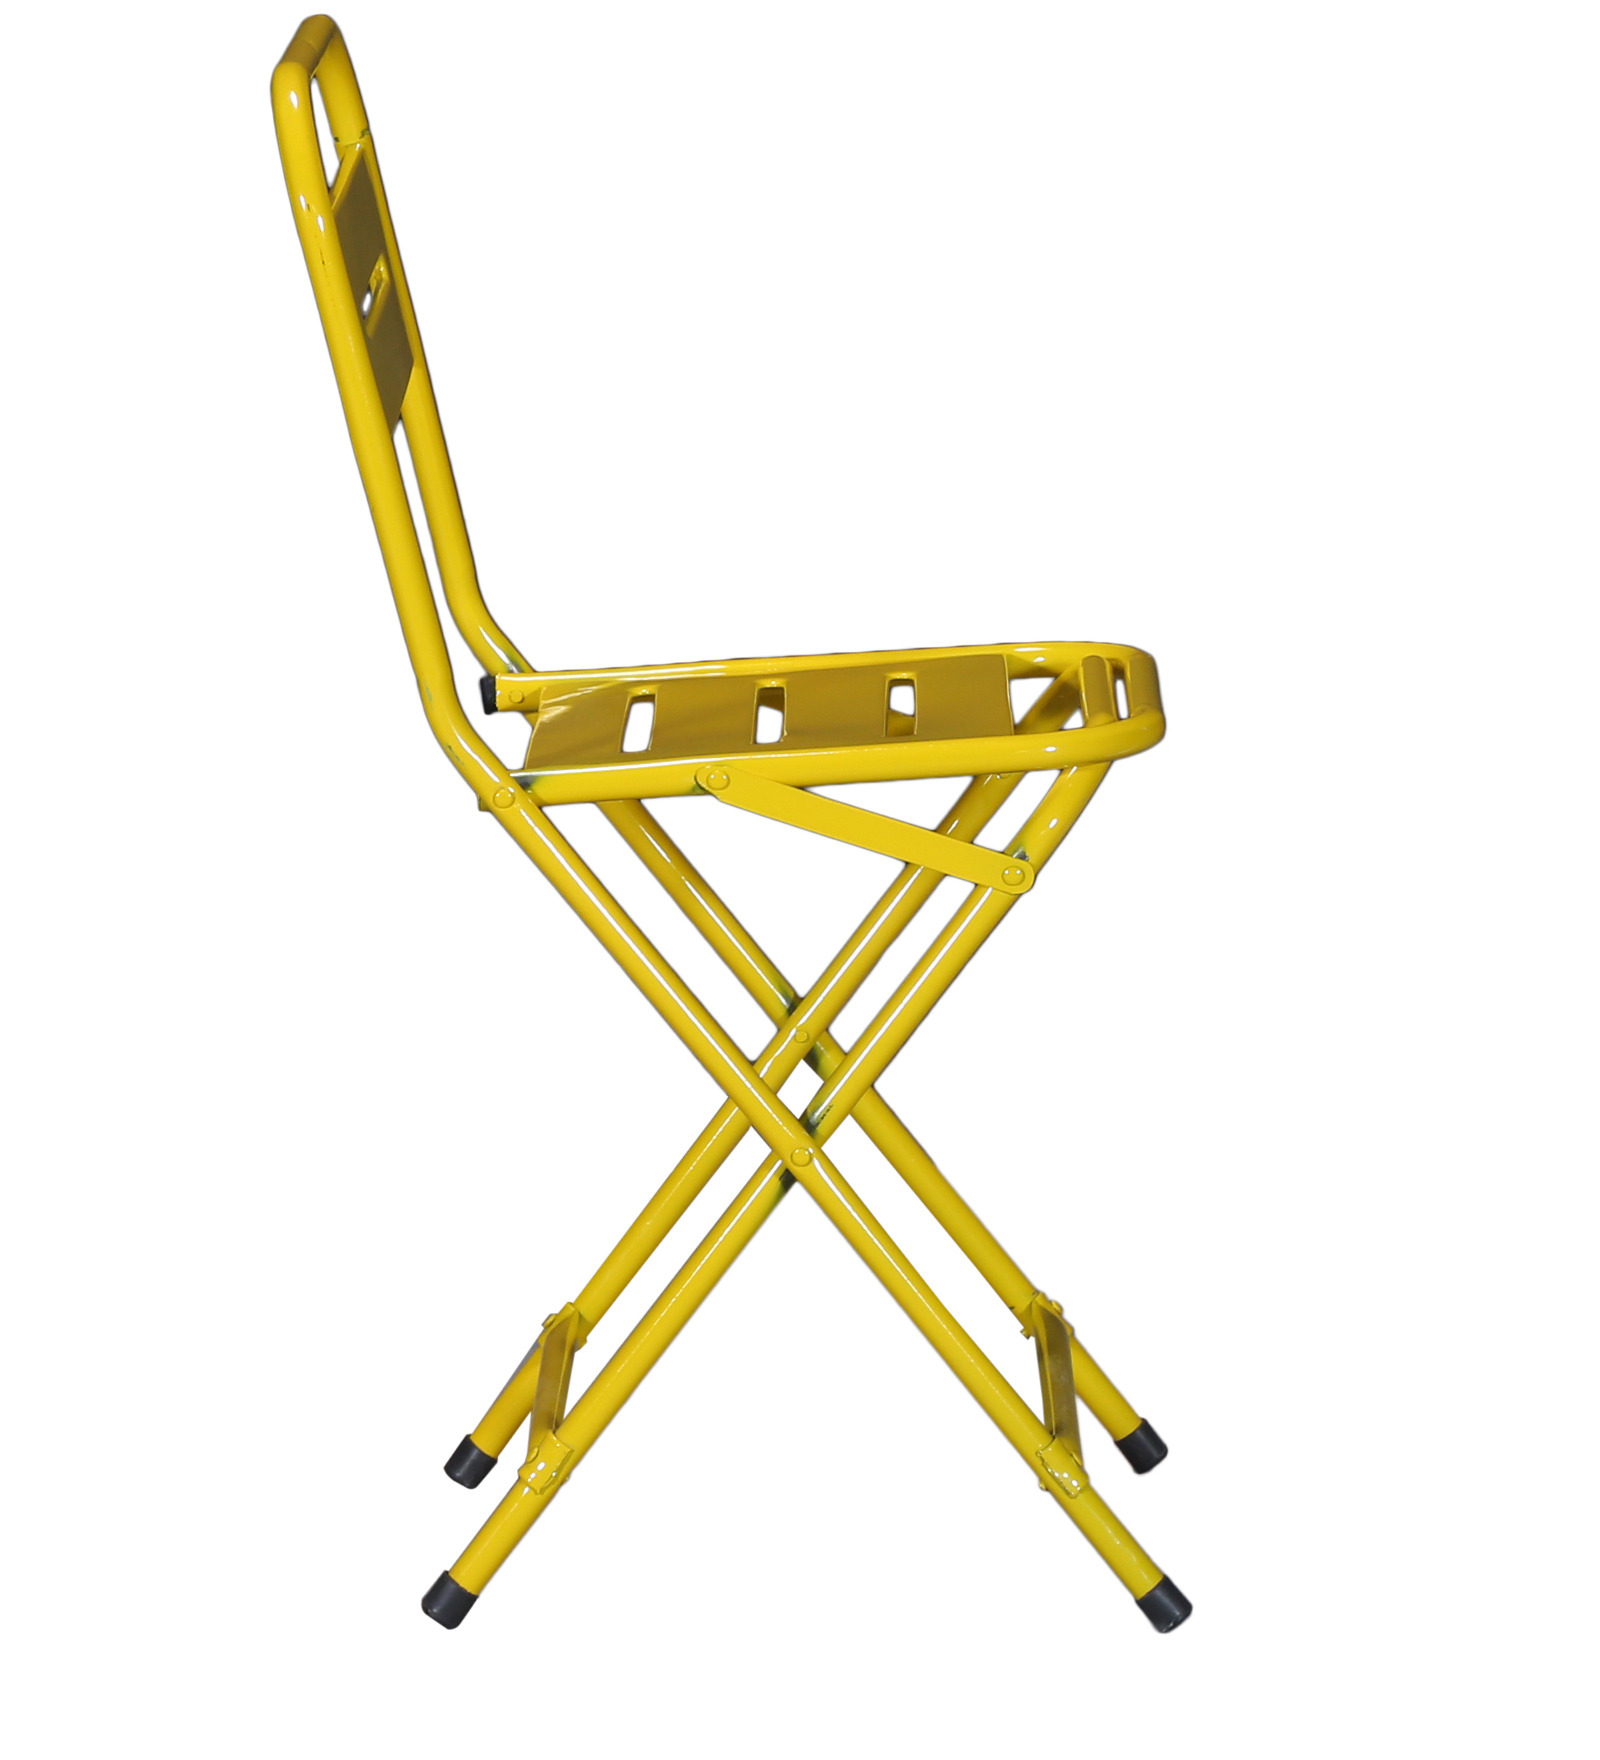Marandoo Grunge Outdoor Folding Chair in Yellow Colour by Bohemiana: (262, 17, 1218, 1640)
